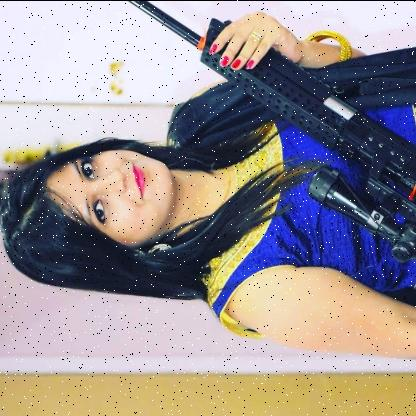rifle: (127, 0, 416, 265)
